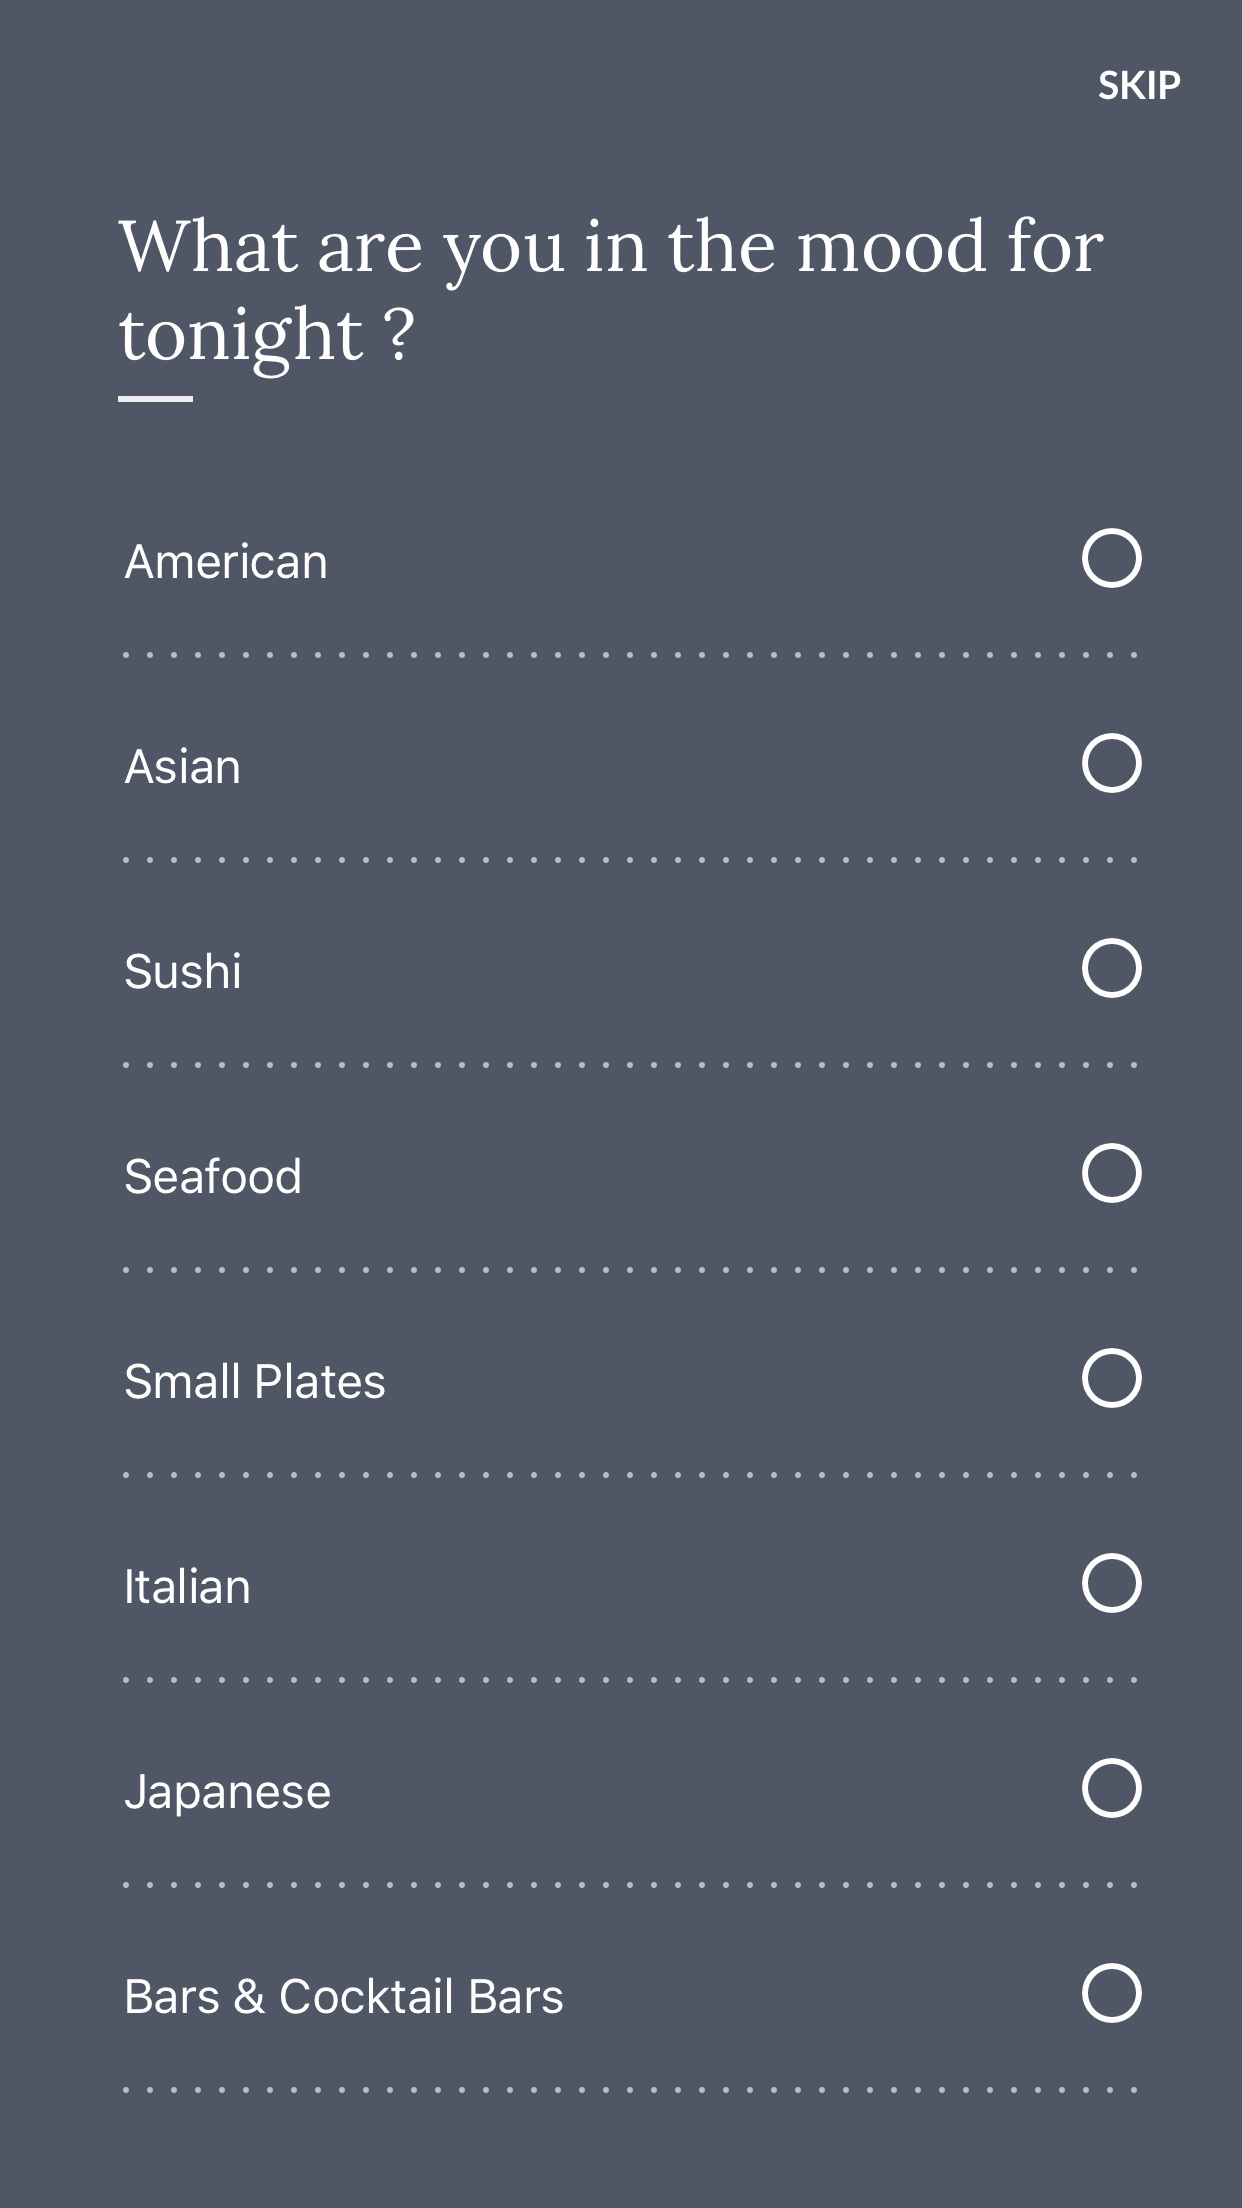CheckedTextView: (124, 1142, 1143, 1206), (126, 1961, 1143, 2025), (127, 1551, 1143, 1615), (124, 528, 1143, 590), (124, 732, 1143, 795), (124, 1348, 1143, 1410), (124, 1758, 1143, 1820), (126, 937, 1143, 999)
Text: (118, 215, 1106, 381), (126, 1976, 564, 2015), (124, 1360, 387, 1400), (124, 1773, 332, 1818), (124, 541, 328, 581), (124, 1156, 302, 1195), (127, 1567, 252, 1604), (124, 748, 241, 786), (126, 952, 243, 990), (1098, 70, 1181, 102)
